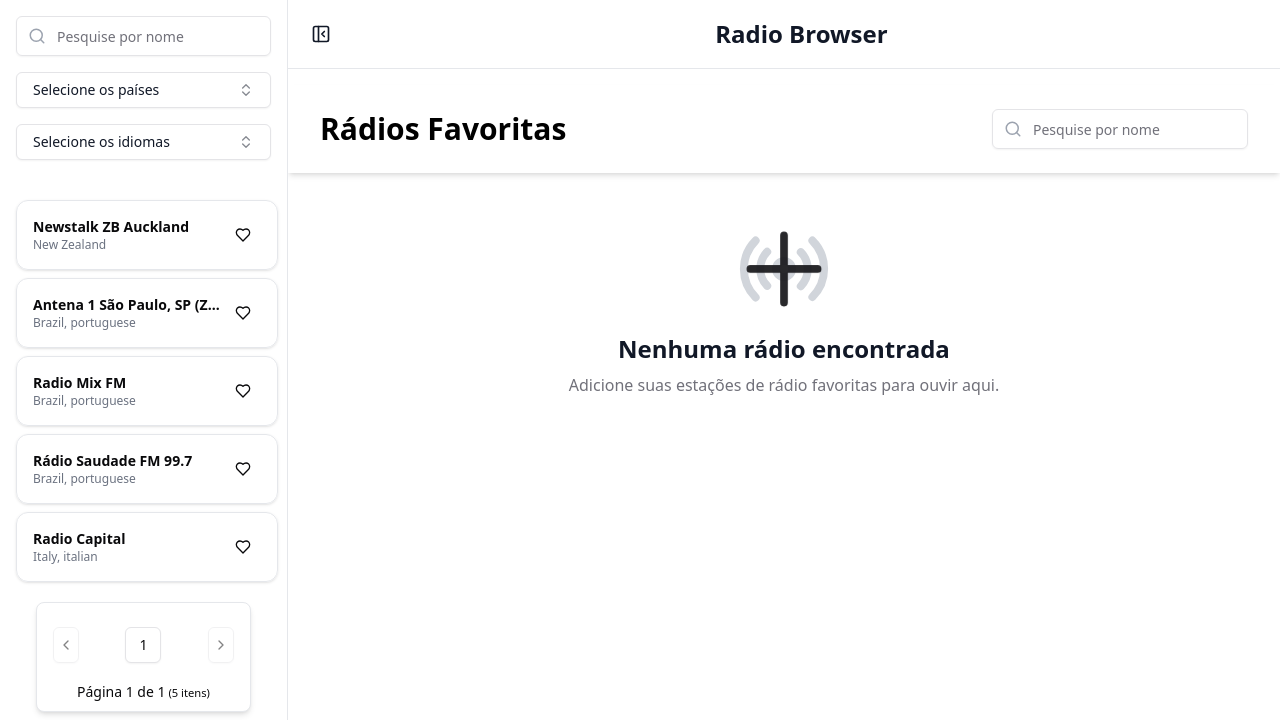
Test: Sidebar Tests › Radio Search and Filter › should filter by country and language
Step 1. Click the dropdown with test id "country-filter" → (144, 90), box [16,72,271,108]
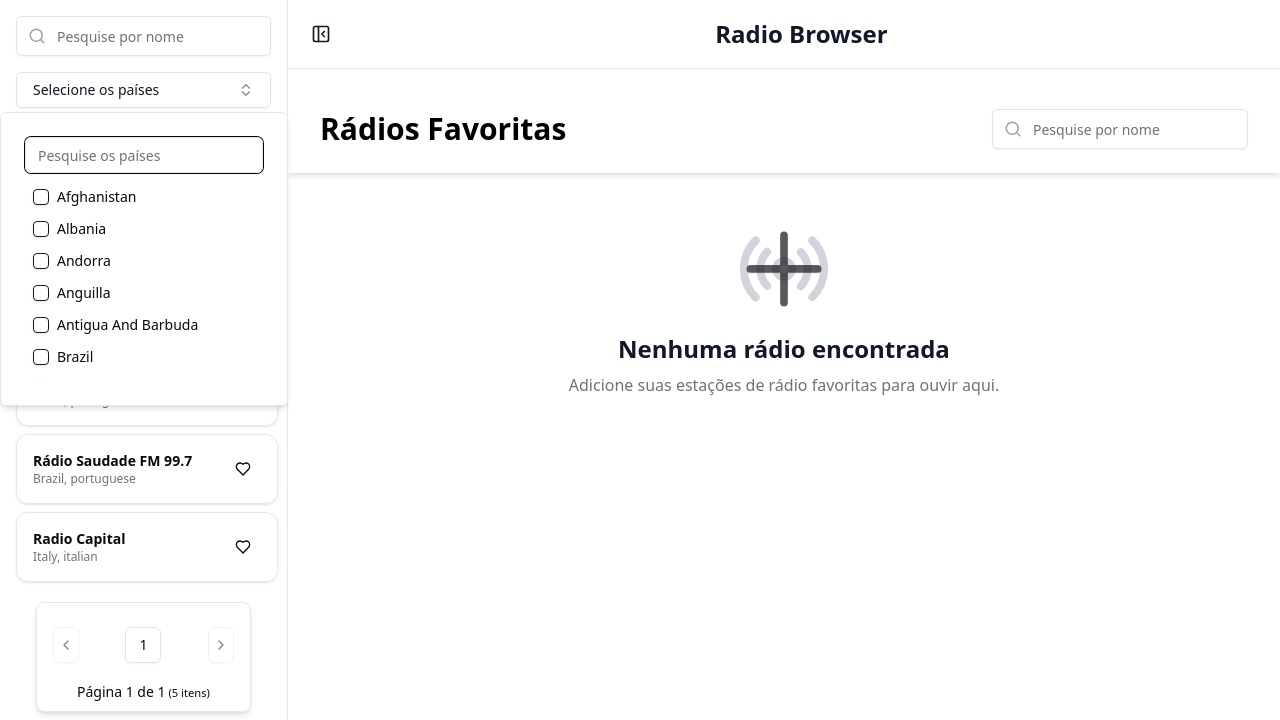
Step 2. Type "Brazil" into the field with test id "search-filter" → (144, 155), box [25,137,263,173]
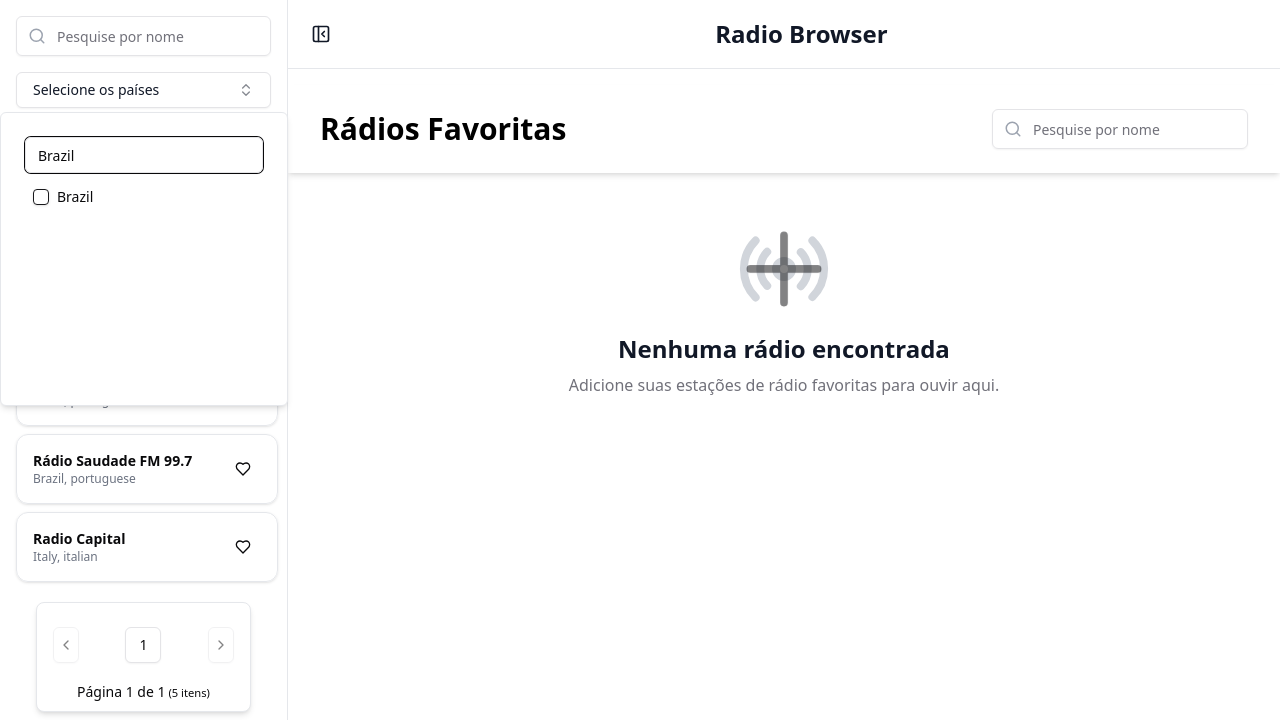
Step 3. Click the text "Brazil" → (75, 197), box [57,190,93,204]
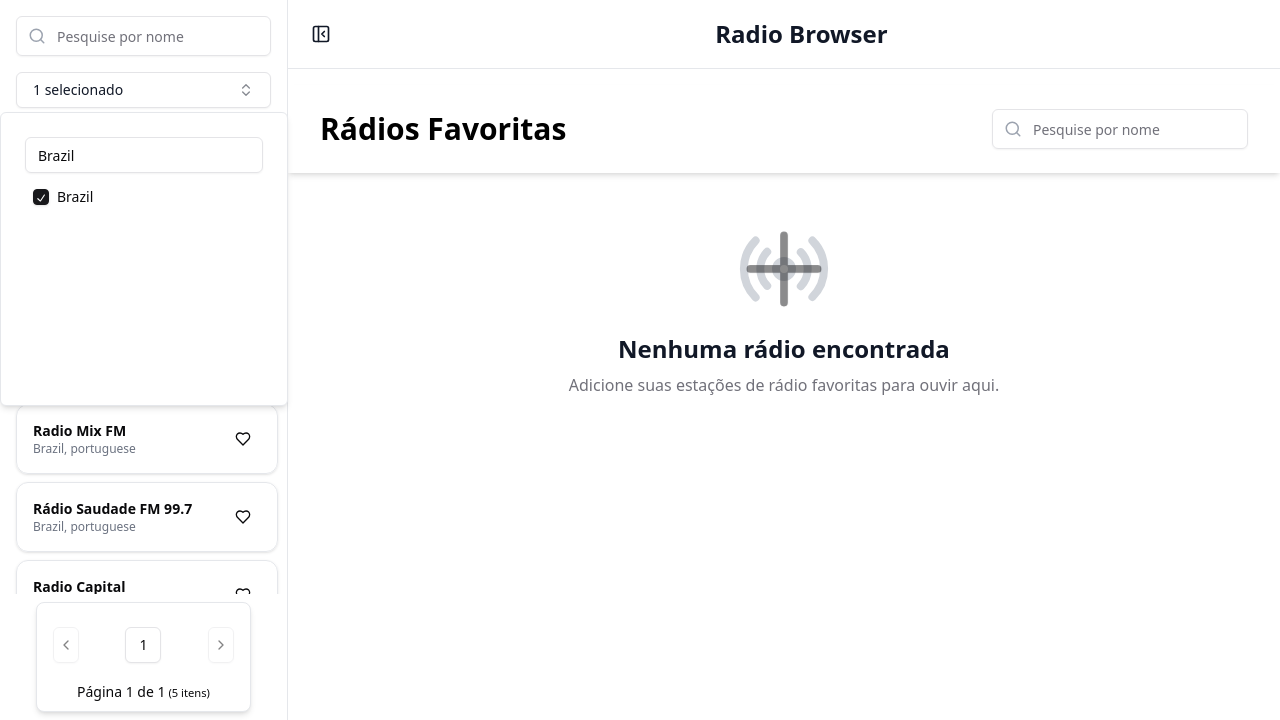
Step 4. Click the dropdown with test id "country-filter" → (144, 90), box [16,72,271,108]
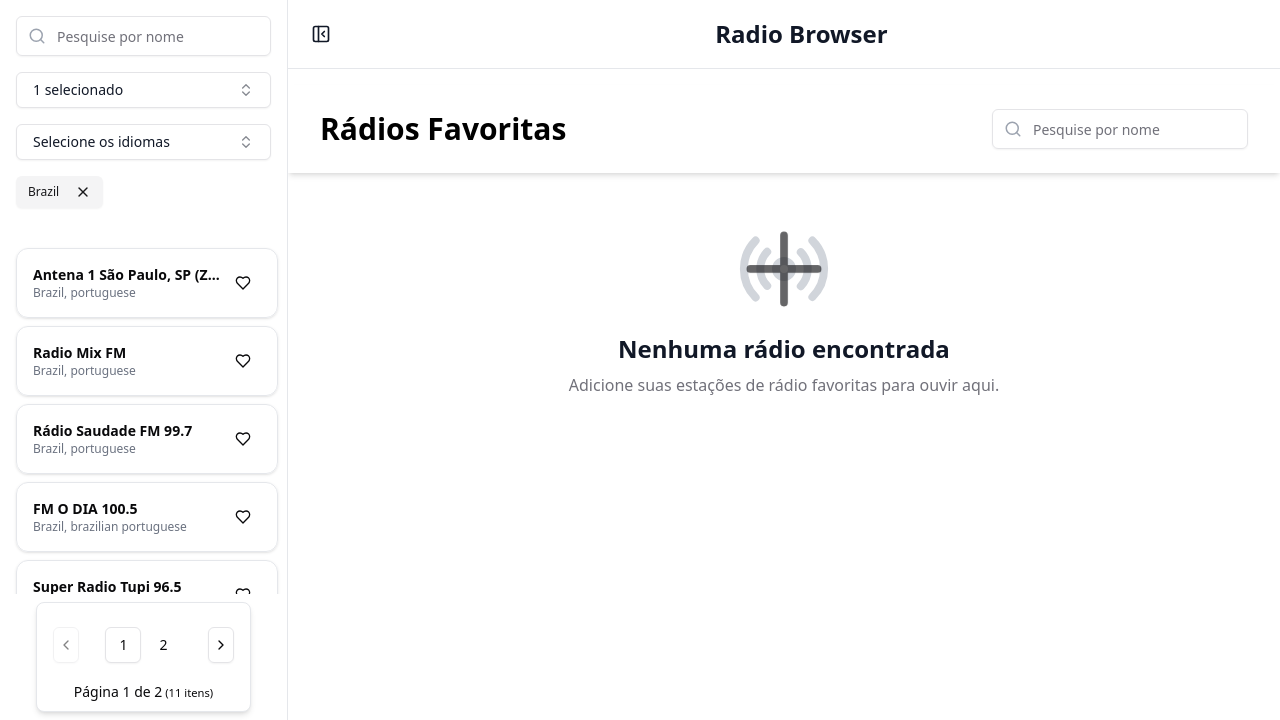
Expected: the heading "Radio Mix FM" is shown, [33,343,126,362]
